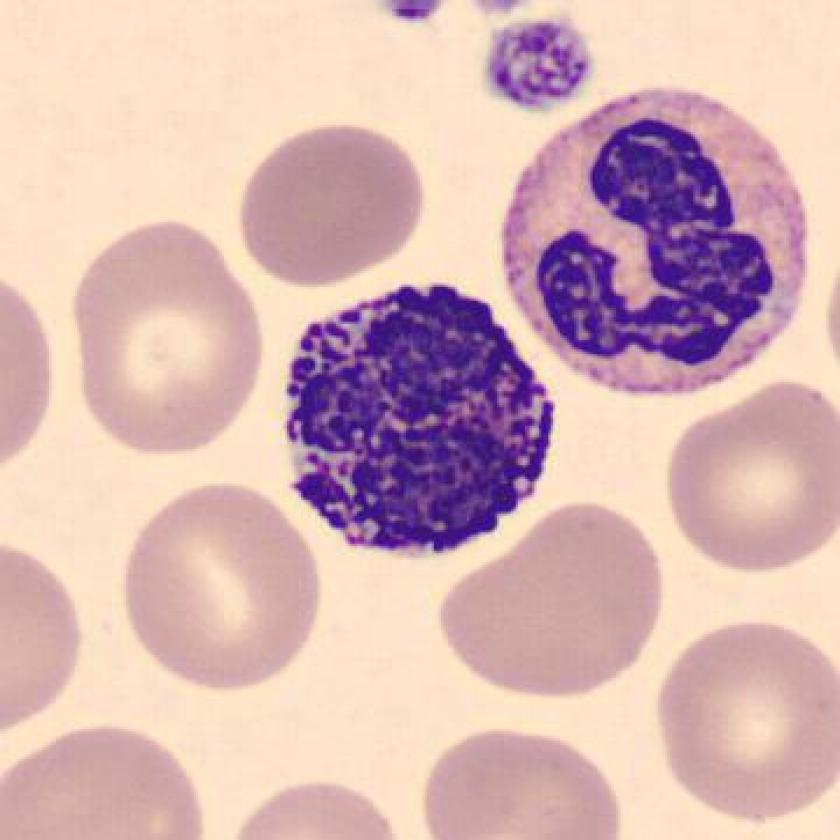basophil: (500, 68, 825, 401), (272, 274, 573, 566)
